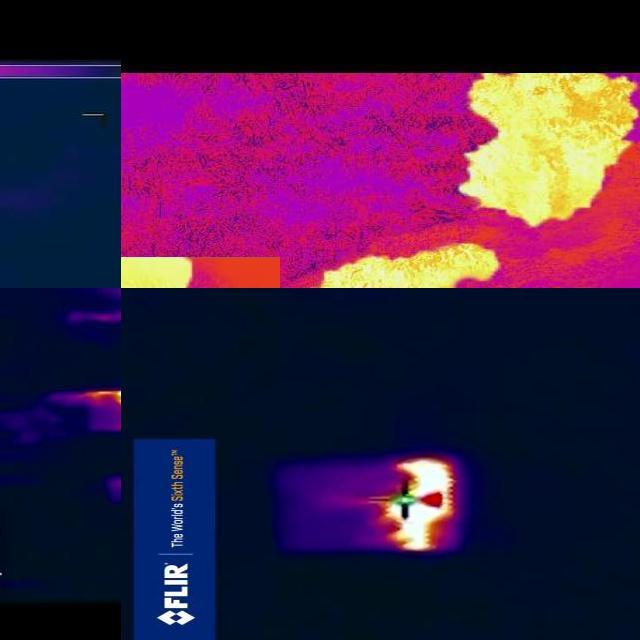fire: (451, 76, 640, 230), (318, 243, 508, 289), (369, 459, 459, 552), (79, 388, 122, 432)
